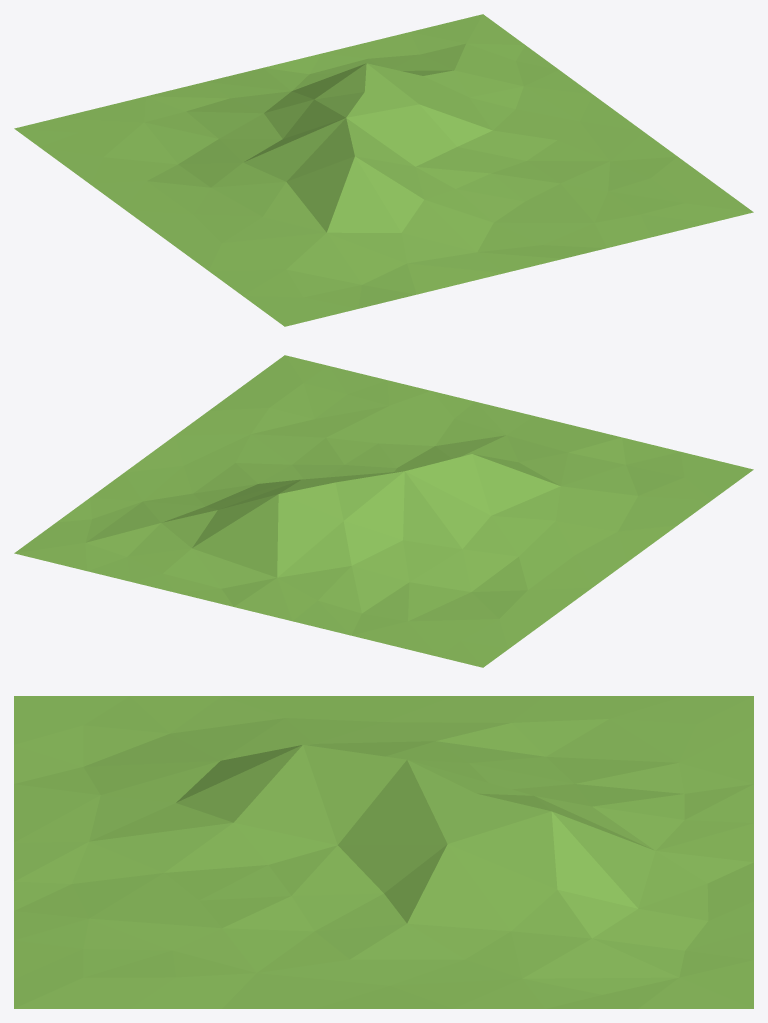
The model's file is MT_Terrain_S_a_12_LOD.fbx.
3 views of the same model, one above another, from view 1: azimuth 30°, elevation 25°; view 2: azimuth 150°, elevation 25°; view 3: azimuth 270°, elevation 25° (orthographic). The views are drawn at different scales.
Parts seen in each view (by area): view 1: MT_Terrain_S_a_12_LOD0; view 2: MT_Terrain_S_a_12_LOD0; view 3: MT_Terrain_S_a_12_LOD0.
Boxes of the visible parts, x1=… form: MT_Terrain_S_a_12_LOD0: x1=14, y1=14, x2=753, y2=326; MT_Terrain_S_a_12_LOD0: x1=14, y1=355, x2=753, y2=667; MT_Terrain_S_a_12_LOD0: x1=14, y1=696, x2=753, y2=1008.
Size of what is drawn, in the model's own units: 2500 by 282 by 2500.
